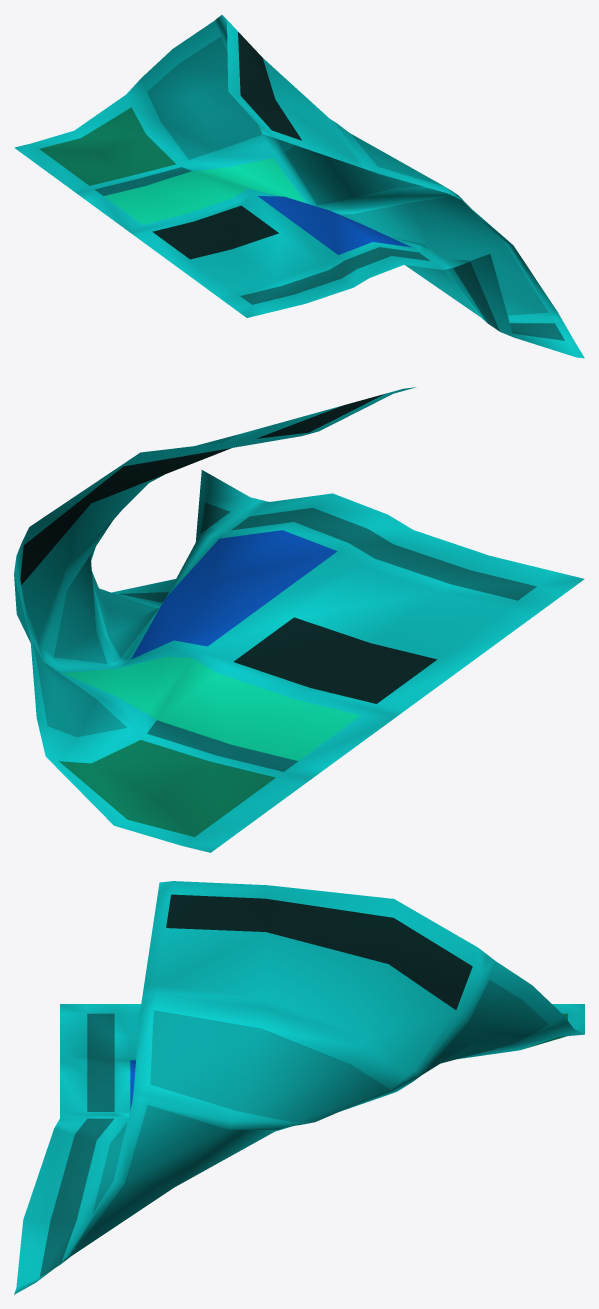
Rendered from OldNewspaper003.glb.
3 views of the same model, one above another, from view 1: azimuth 30°, elevation 25°; view 2: azimuth 150°, elevation 25°; view 3: azimuth 270°, elevation 25° (orthographic). The views are drawn at different scales.
Parts seen in each view (by area): view 1: OldNewspaper003; view 2: OldNewspaper003; view 3: OldNewspaper003.
Part boxes in pixels (<box>): OldNewspaper003: <box>14,15,584,358</box>; OldNewspaper003: <box>14,387,584,852</box>; OldNewspaper003: <box>14,881,584,1294</box>.
Bounding box in the file's own units: 0.074 × 0.0577 × 0.1022.
